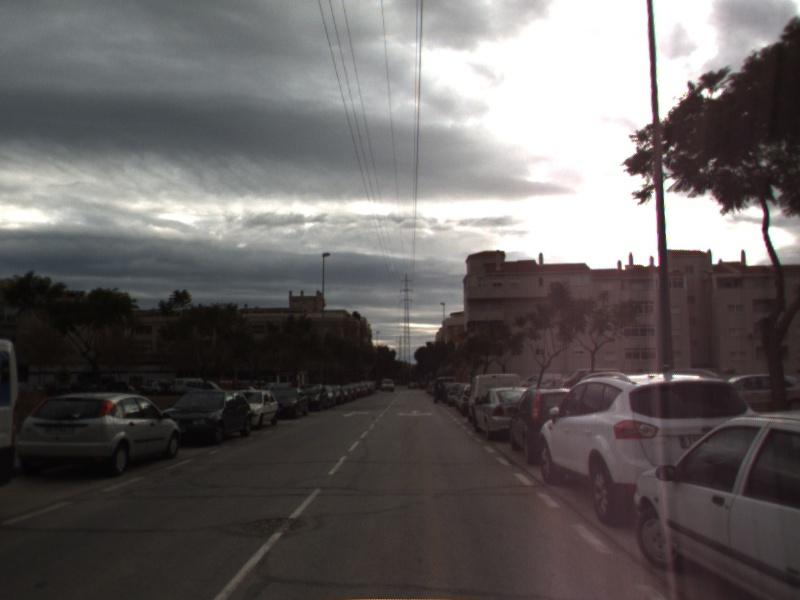STRAIGHT_LEFT_RIGHT: (395, 407, 437, 419)
